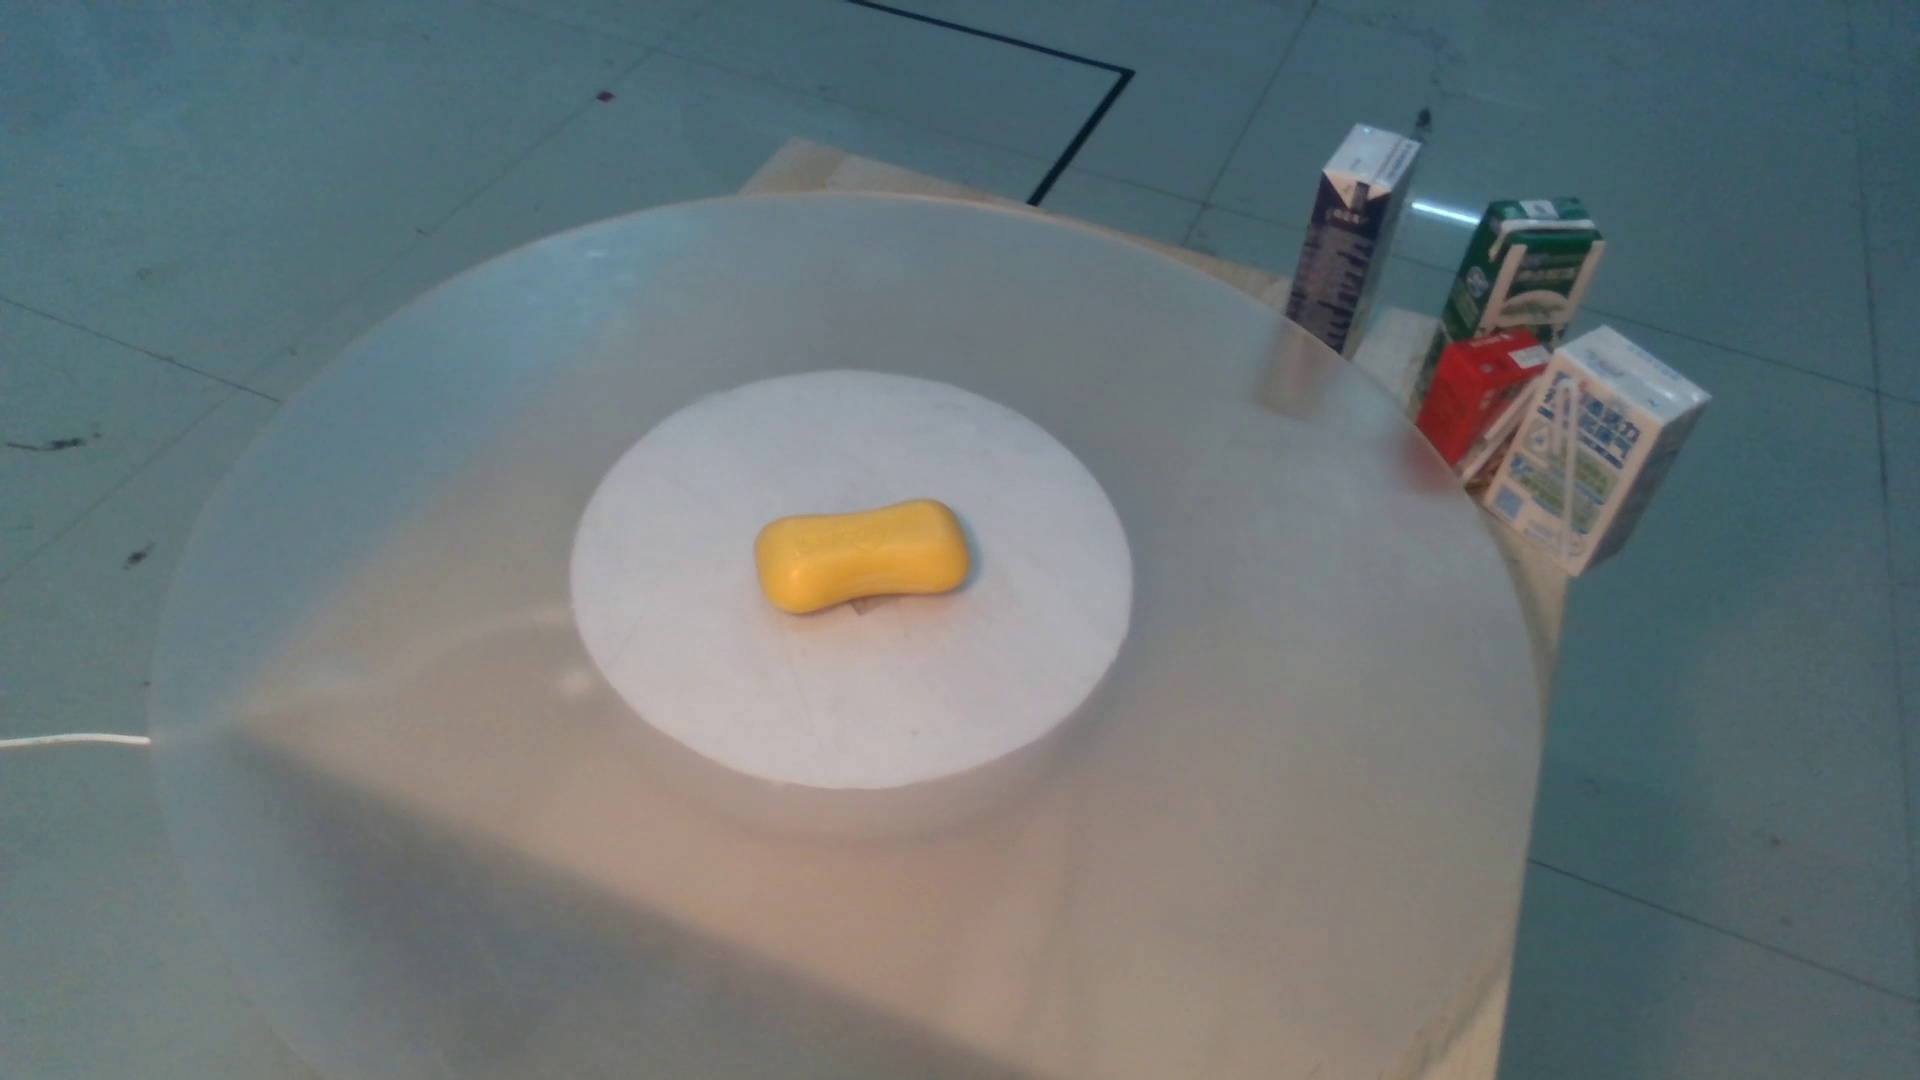CA003_1: (731, 467, 992, 644)
